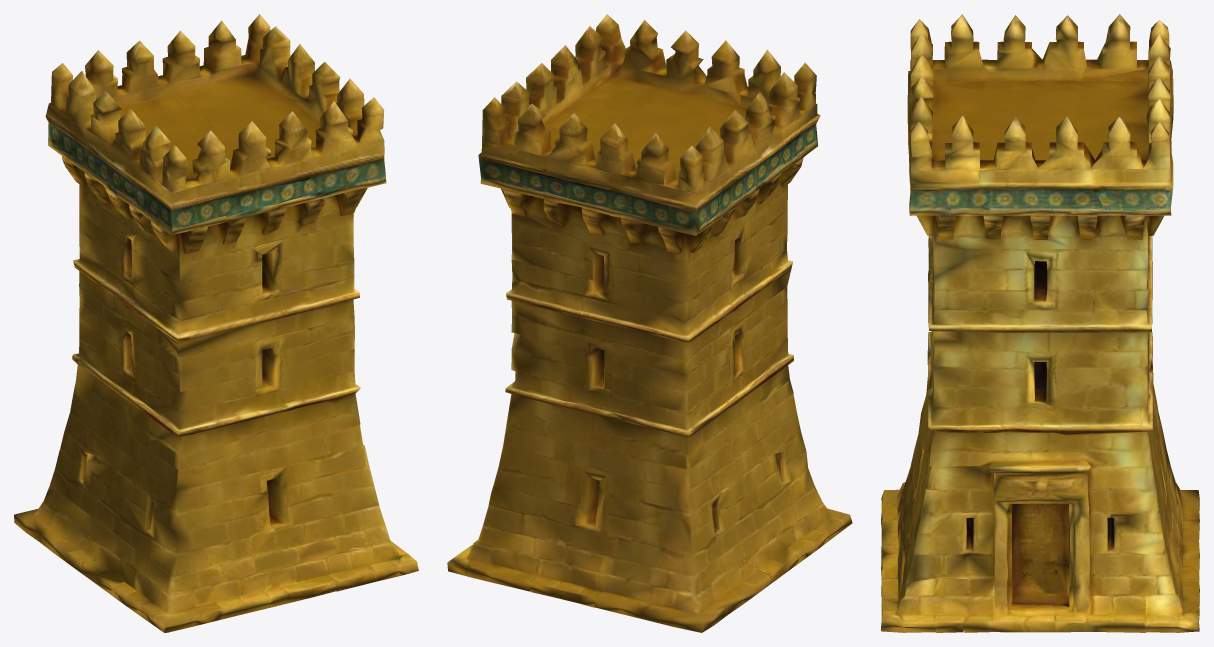
The model's file is castle_tower_medium_gold.glb.
3 views of the same model, side by side, from view 1: azimuth 30°, elevation 25°; view 2: azimuth 150°, elevation 25°; view 3: azimuth 270°, elevation 25° (orthographic). The views are drawn at different scales.
Visible parts, largest first — view 1: tripo_node_25803293-13b0-449f-b9ed-82eb2ad4be2f; view 2: tripo_node_25803293-13b0-449f-b9ed-82eb2ad4be2f; view 3: tripo_node_25803293-13b0-449f-b9ed-82eb2ad4be2f.
Part boxes in pixels (bbox=[...]): tripo_node_25803293-13b0-449f-b9ed-82eb2ad4be2f: bbox=[14, 14, 418, 632]; tripo_node_25803293-13b0-449f-b9ed-82eb2ad4be2f: bbox=[447, 14, 852, 632]; tripo_node_25803293-13b0-449f-b9ed-82eb2ad4be2f: bbox=[881, 14, 1199, 632].
Bounding box in the file's own units: 0.5546 × 0.9792 × 0.5633.
1 material, 1 textured.
